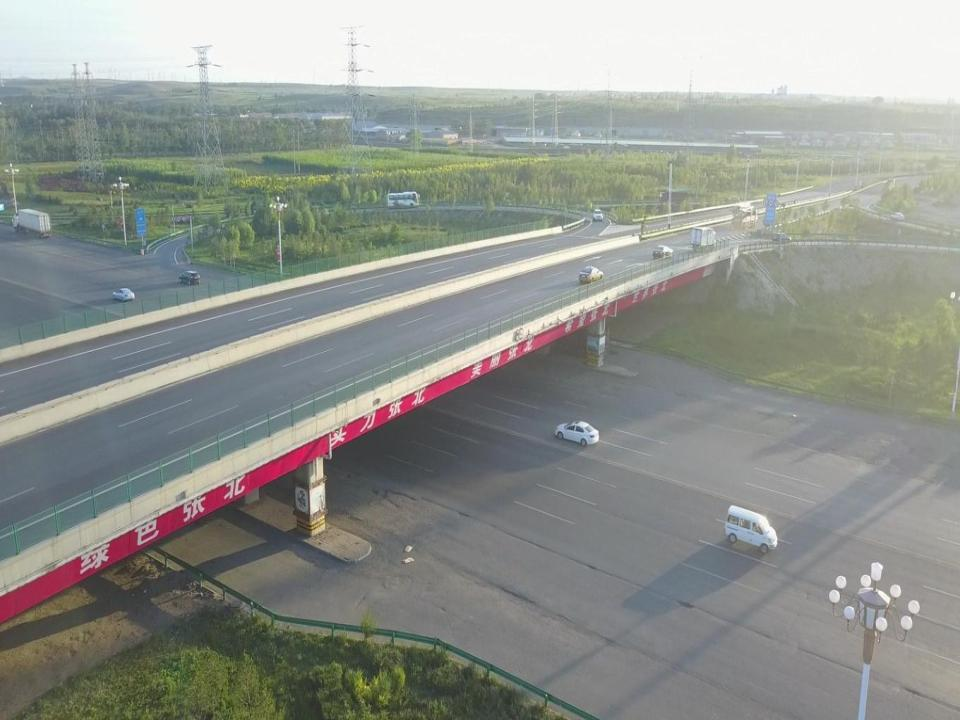bus: (388, 191, 420, 208)
car: (556, 420, 598, 446), (579, 264, 603, 284), (113, 287, 135, 301), (653, 244, 673, 259), (890, 213, 904, 221)
truck: (12, 208, 52, 239), (689, 227, 718, 251), (732, 210, 757, 230), (659, 188, 688, 204)
van: (724, 505, 777, 554), (179, 271, 200, 284), (772, 232, 790, 244), (592, 209, 603, 221)
